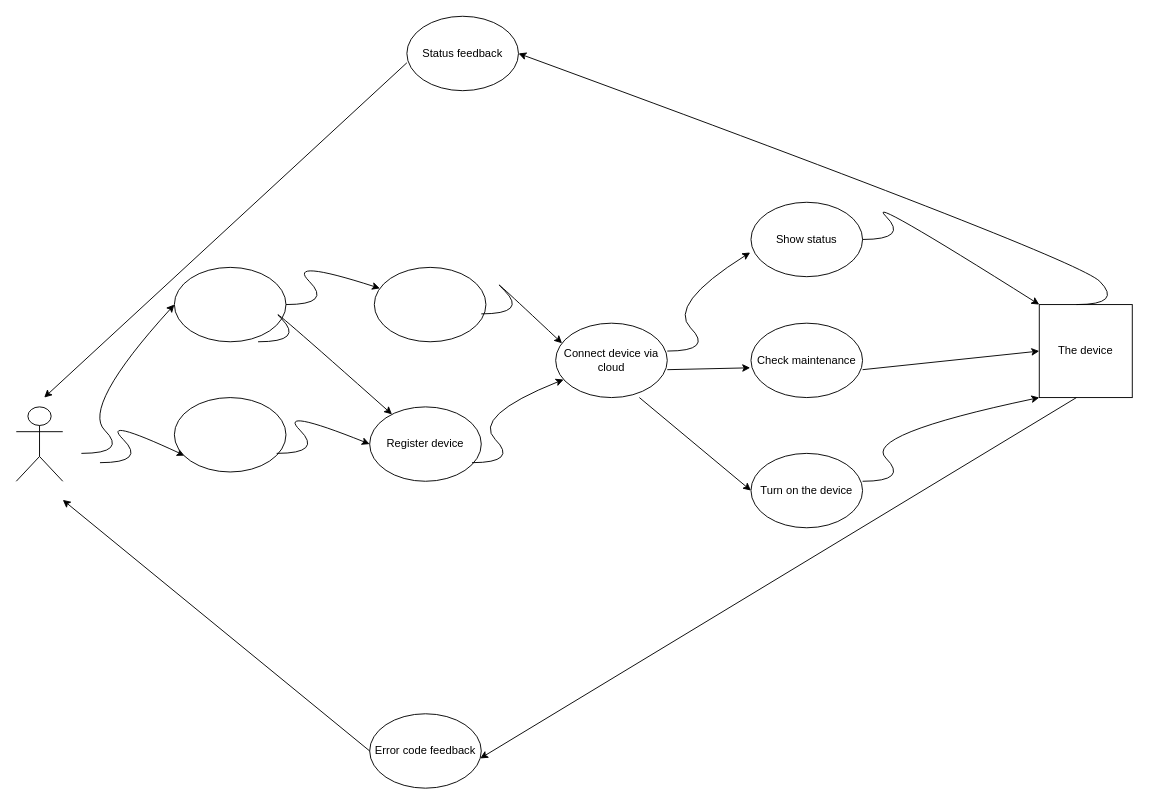
Image size: 1149x804. Some labels were removed from this diagram. Each missing label, with the centre of its shape:
Log in: (x=229, y=304)
Register: (x=229, y=434)
User: (x=39, y=443)
View device: (x=429, y=304)
